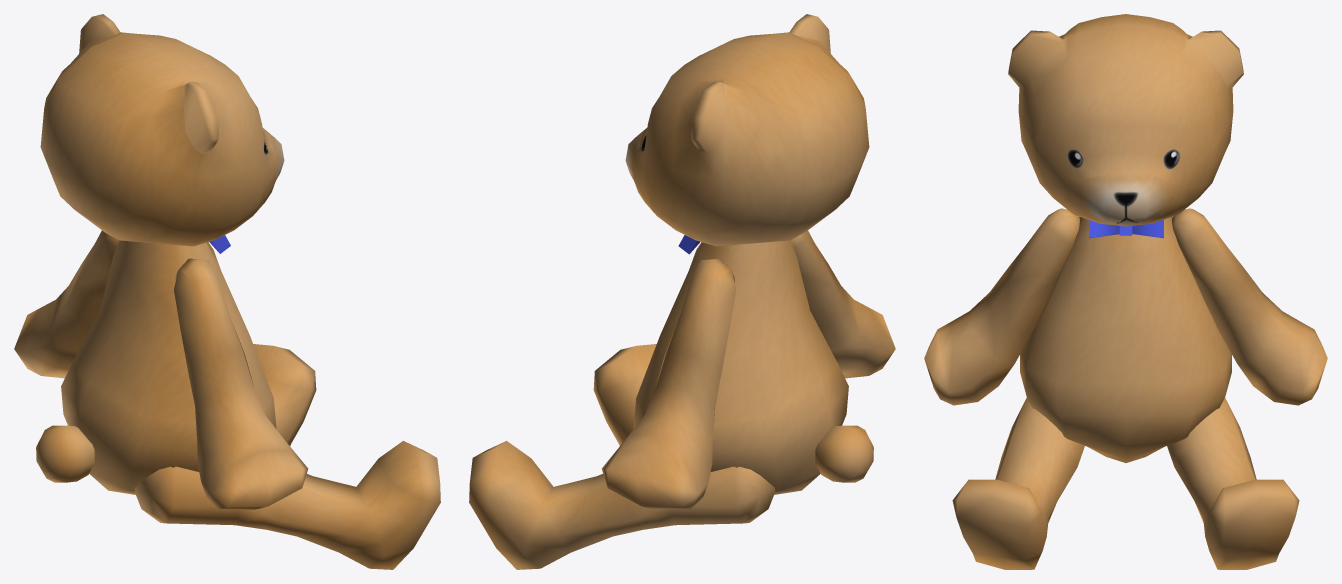
The model's file is kuma.fbx.
3 views of the same model, side by side, from view 1: azimuth 30°, elevation 25°; view 2: azimuth 150°, elevation 25°; view 3: azimuth 270°, elevation 25° (orthographic). The views are drawn at different scales.
Parts seen in each view (by area): view 1: _009_kuma; view 2: _009_kuma; view 3: _009_kuma.
Boxes of the visible parts, <box> form: _009_kuma: <box>14,14,440,569</box>; _009_kuma: <box>469,14,895,569</box>; _009_kuma: <box>924,14,1327,569</box>.
Bounding box in the file's own units: 2.84 × 4.21 × 3.29.
